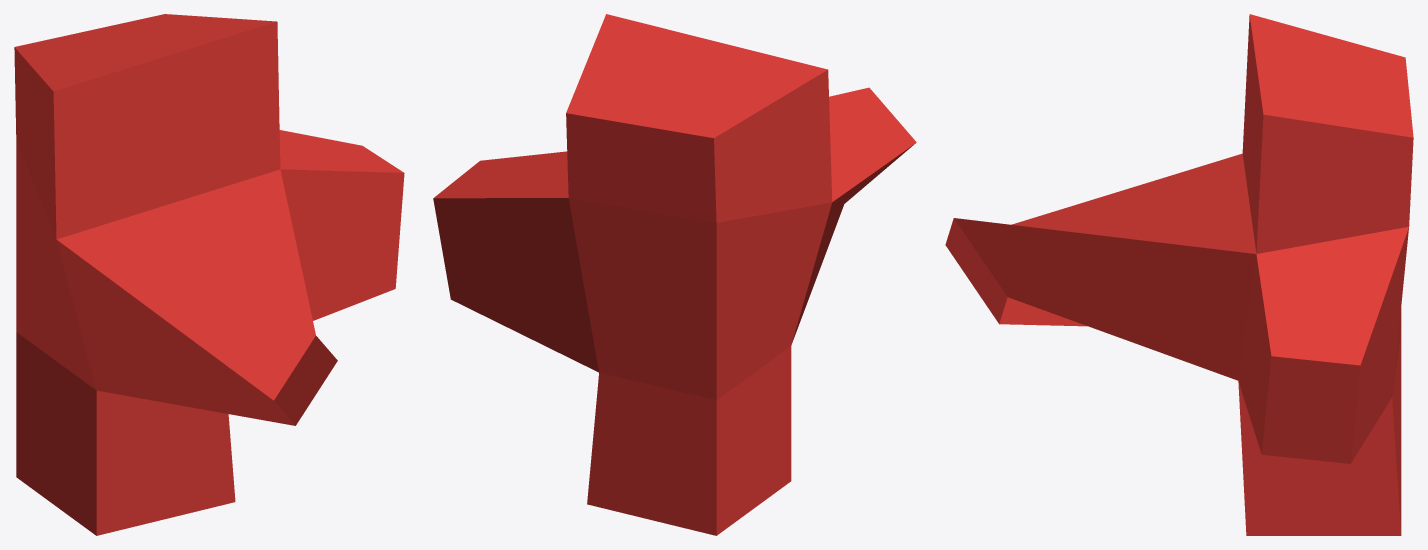
File: testModel_noTexture.fbx
The picture shows the model from 3 angles, left to right: view 1: azimuth 30°, elevation 25°; view 2: azimuth 150°, elevation 25°; view 3: azimuth 270°, elevation 25°; orthographic projection. The views are drawn at different scales.
Parts seen in each view (by area): view 1: Cube; view 2: Cube; view 3: Cube.
Part boxes in pixels (x1,y1,x2,y2): Cube: [14, 14, 404, 535]; Cube: [433, 14, 916, 535]; Cube: [945, 14, 1413, 535].
Bounding box in the file's own units: 528 × 635 × 605.
